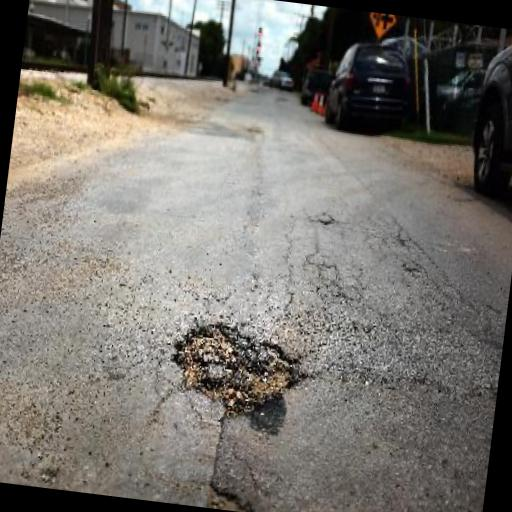pothole: (166, 317, 308, 421), (204, 477, 257, 512)
